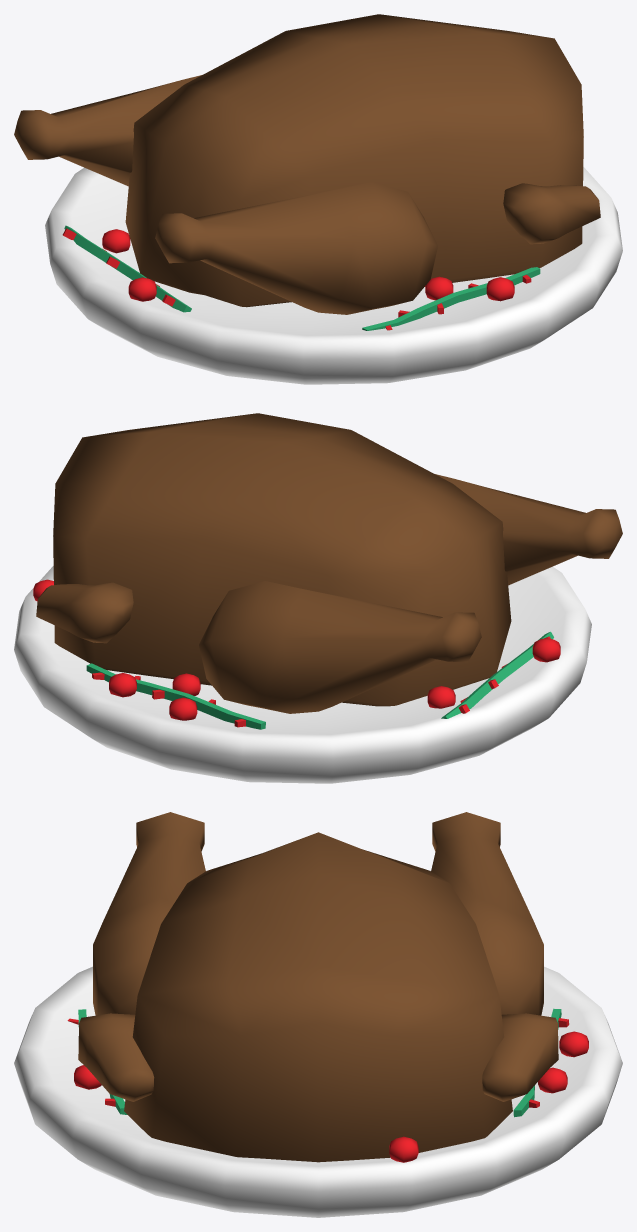
Rendered from MM_Turkey.fbx.
3 renders of one model, top to bottom at view 1: azimuth 30°, elevation 25°; view 2: azimuth 150°, elevation 25°; view 3: azimuth 270°, elevation 25°, orthographic. The views are drawn at different scales.
Visible parts, largest first — view 1: MM_Turkey; view 2: MM_Turkey; view 3: MM_Turkey.
Part boxes in pixels (x1,y1,x2,y2): MM_Turkey: [14, 14, 622, 384]; MM_Turkey: [14, 413, 622, 783]; MM_Turkey: [14, 812, 622, 1217].
Size of the model in its own units: 132 by 59.23 by 132.
